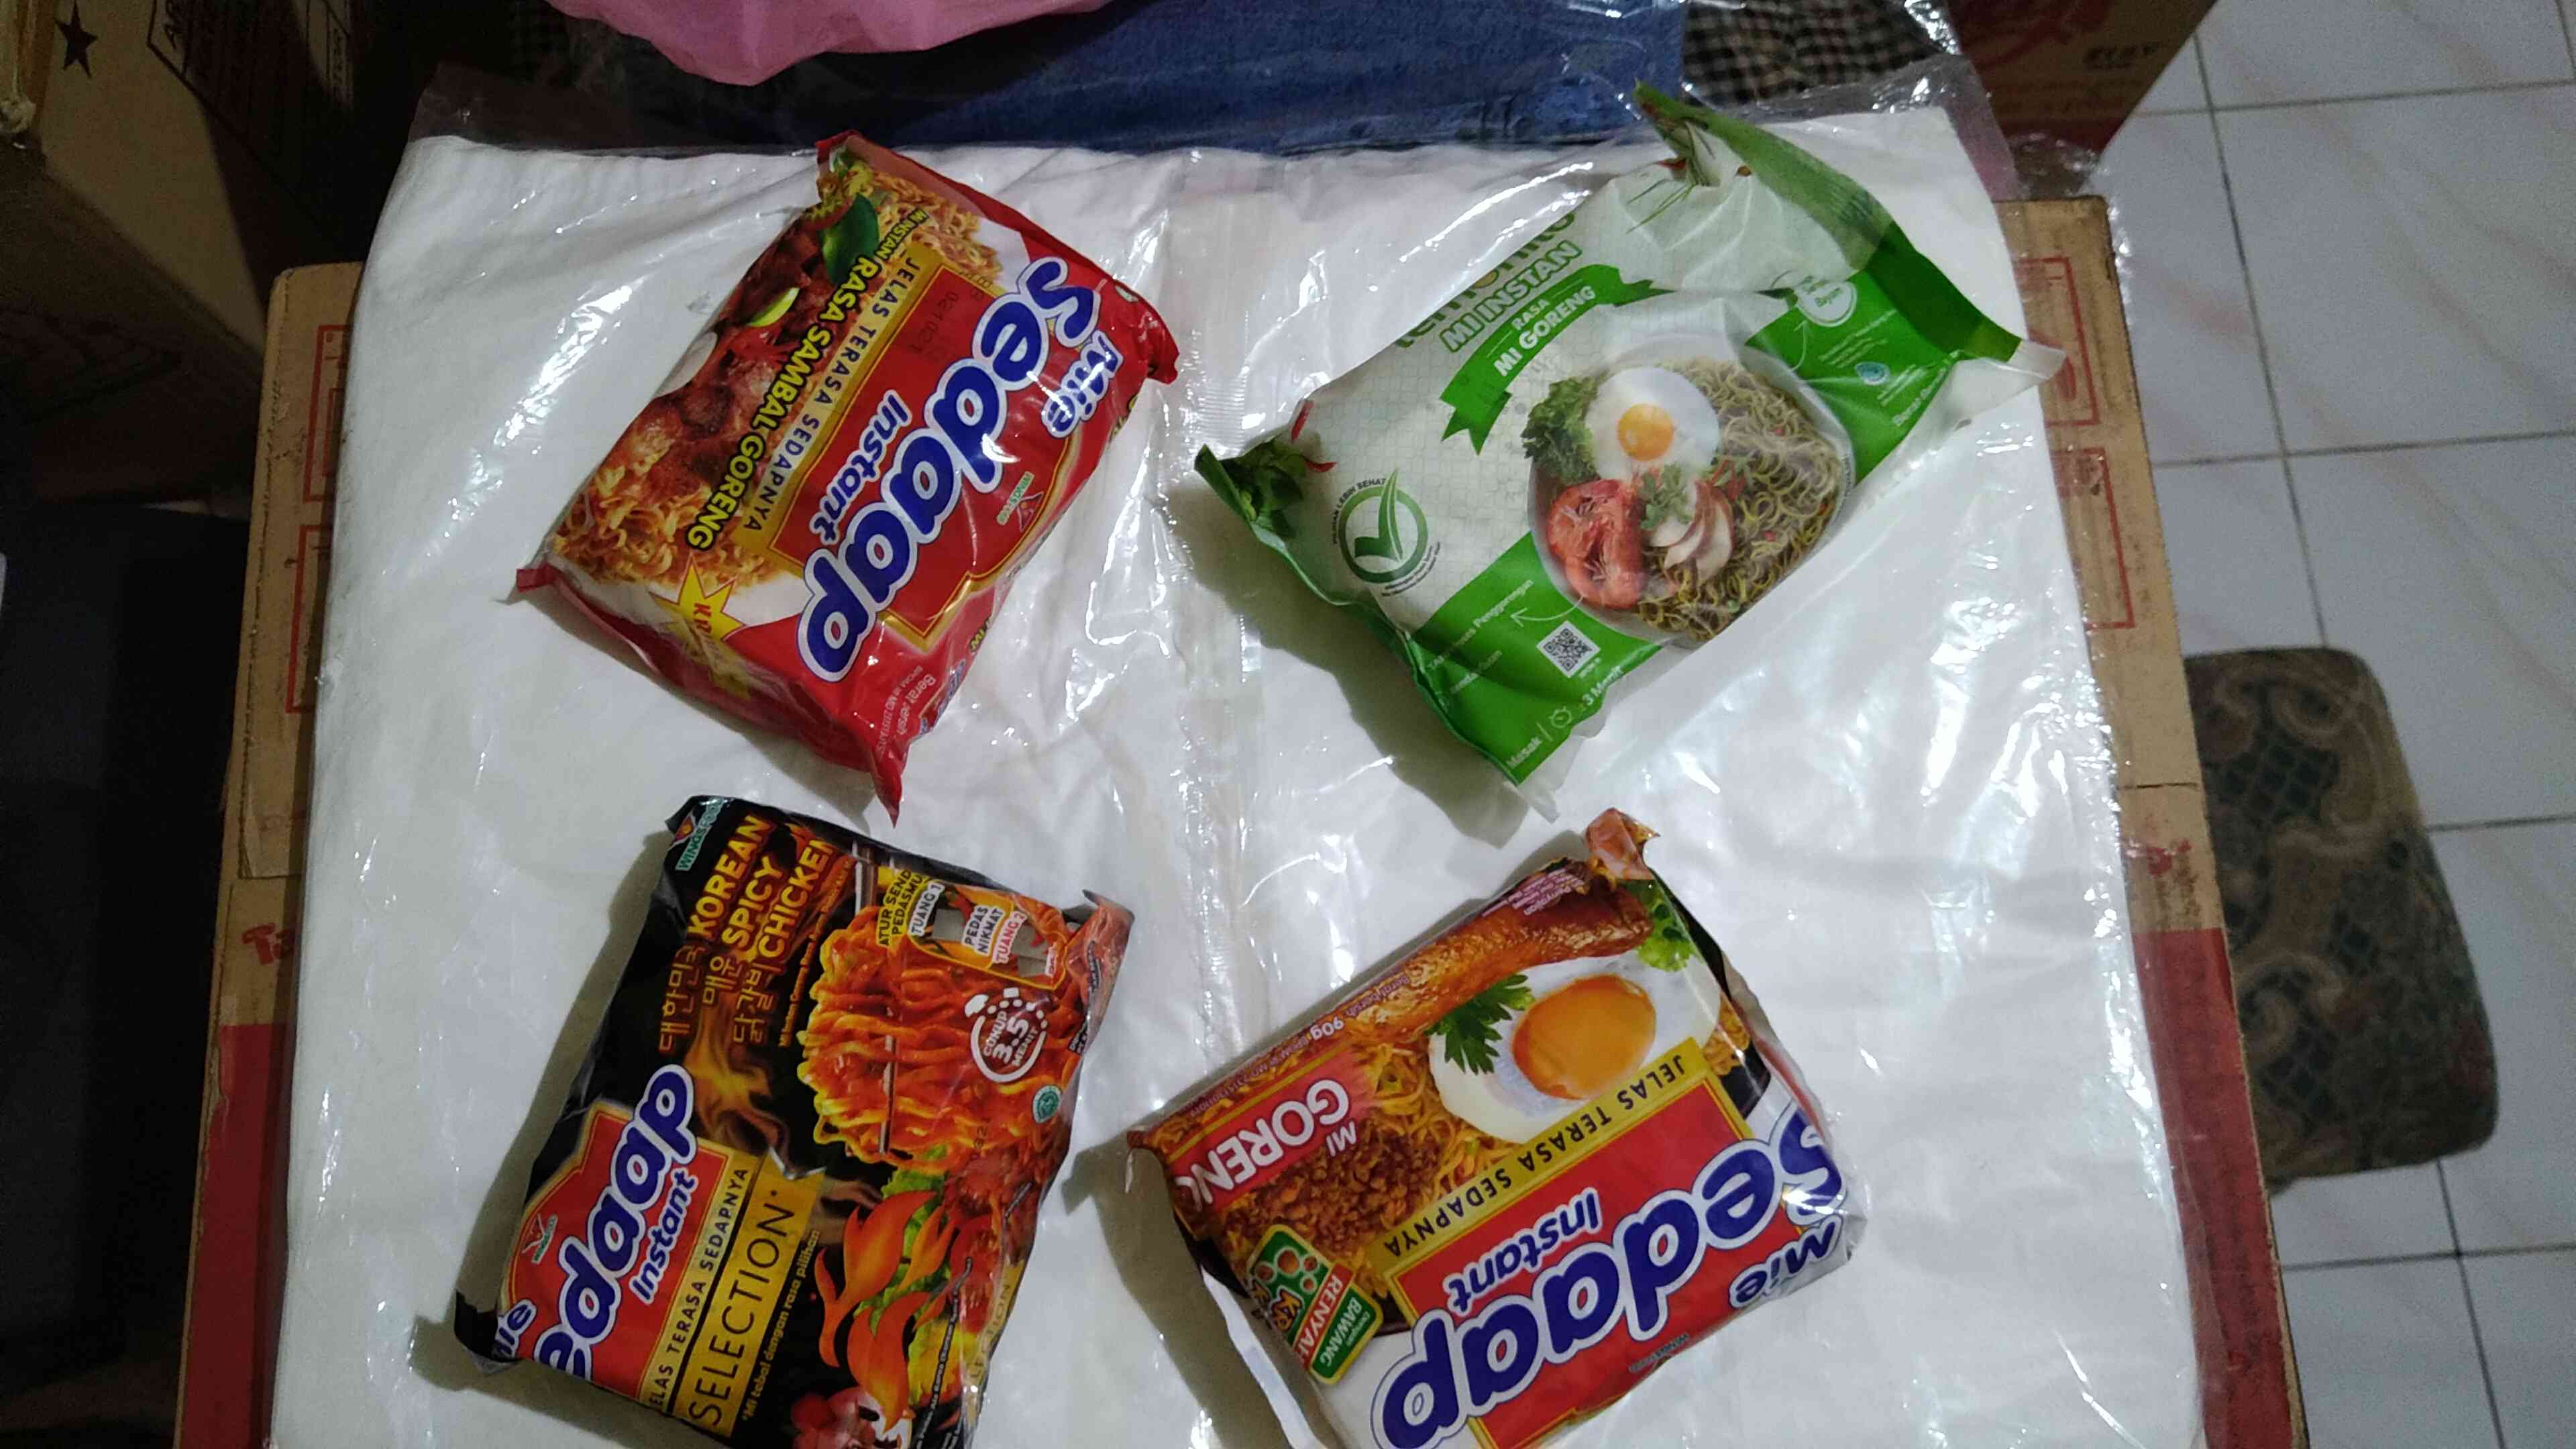lemonilo: (1221, 87, 2028, 786)
sedaap goreng: (1129, 819, 1852, 1445)
sedaap sambal goreng: (460, 801, 1102, 1407), (527, 159, 1134, 775)
